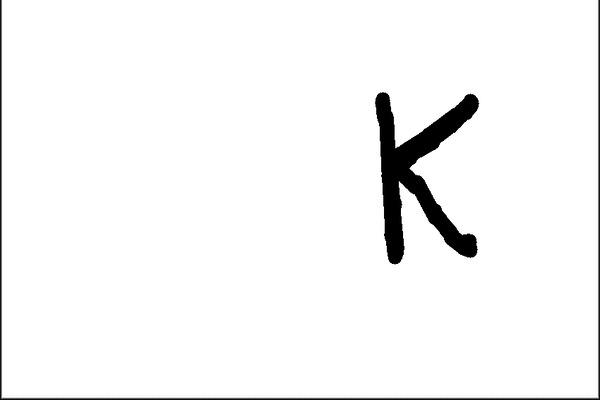K: (365, 80, 490, 269)
